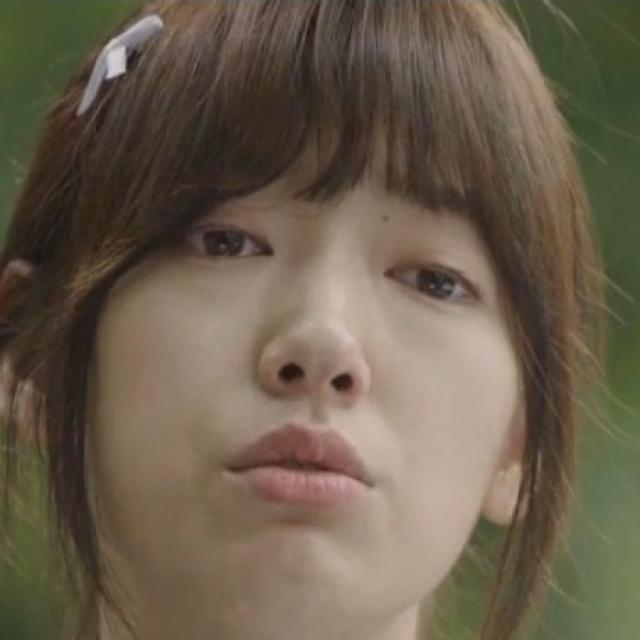Depress: (89, 167, 530, 639)
